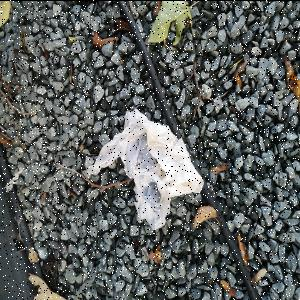Trash: (84, 106, 207, 233)
